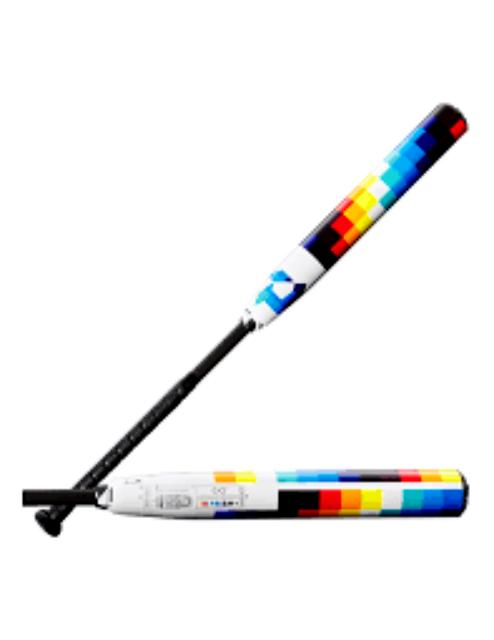baseball bat: (21, 100, 470, 534)
